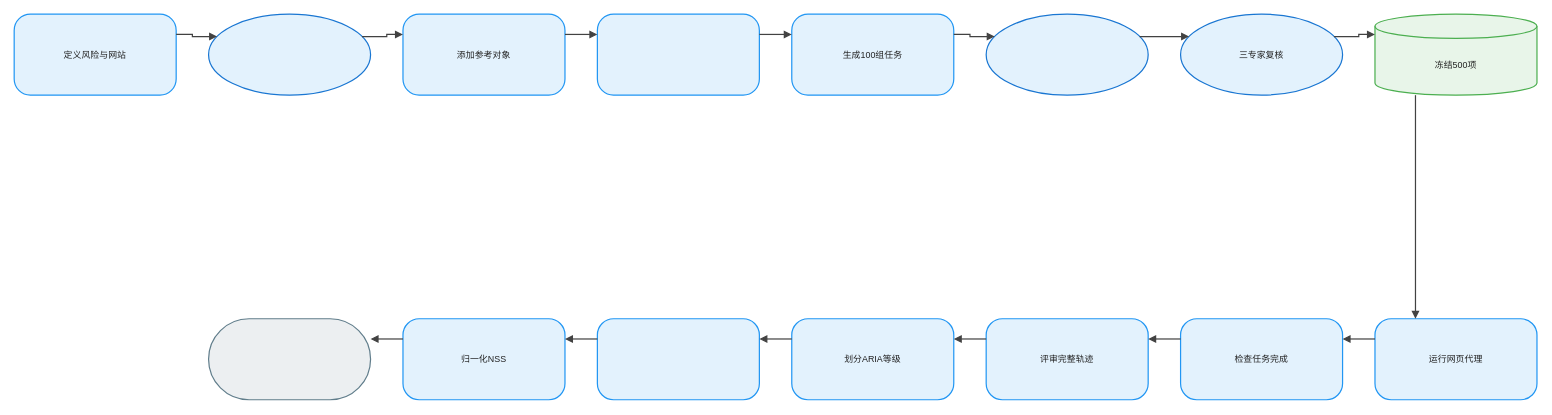
This 1552x415 diagram has some shape labels left out. The centre of each missing label's shape, as x and y in pixels:
人工编写150项: the point at 289,54
人工补全校验: the point at 1066,54
报告安全画像: the point at 289,359
计算完成拒绝率: the point at 678,359
配对安全任务: the point at 678,54
